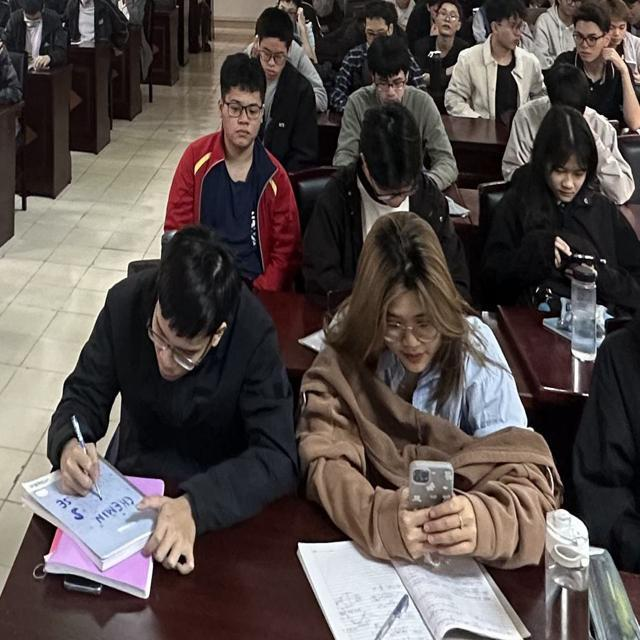Looking away: (362, 105, 424, 203), (543, 121, 588, 203), (366, 34, 409, 104), (222, 80, 262, 154), (254, 8, 294, 76), (487, 6, 524, 54)
Looking forward: (572, 9, 612, 66), (438, 2, 460, 38)
Phone use: (306, 216, 558, 562)
Reading-writing: (25, 232, 300, 587), (0, 0, 65, 72)
